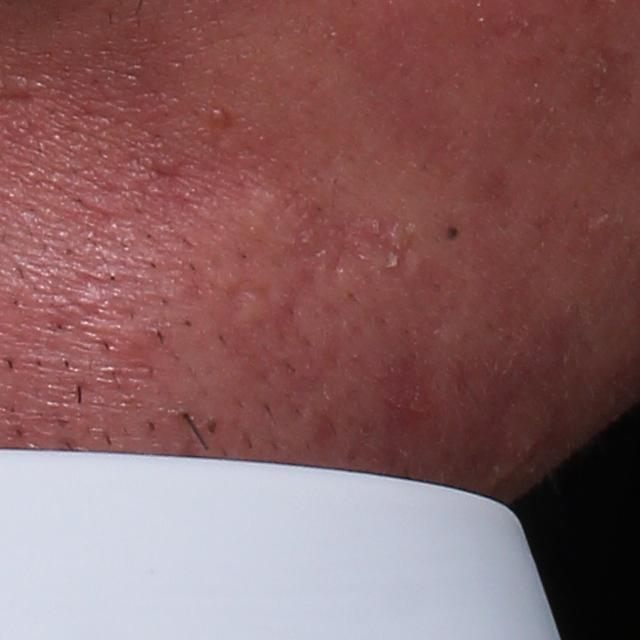hypertrophic_scar: (225, 181, 288, 255), (309, 260, 370, 310), (229, 283, 298, 326)
nevus: (441, 221, 463, 249)
